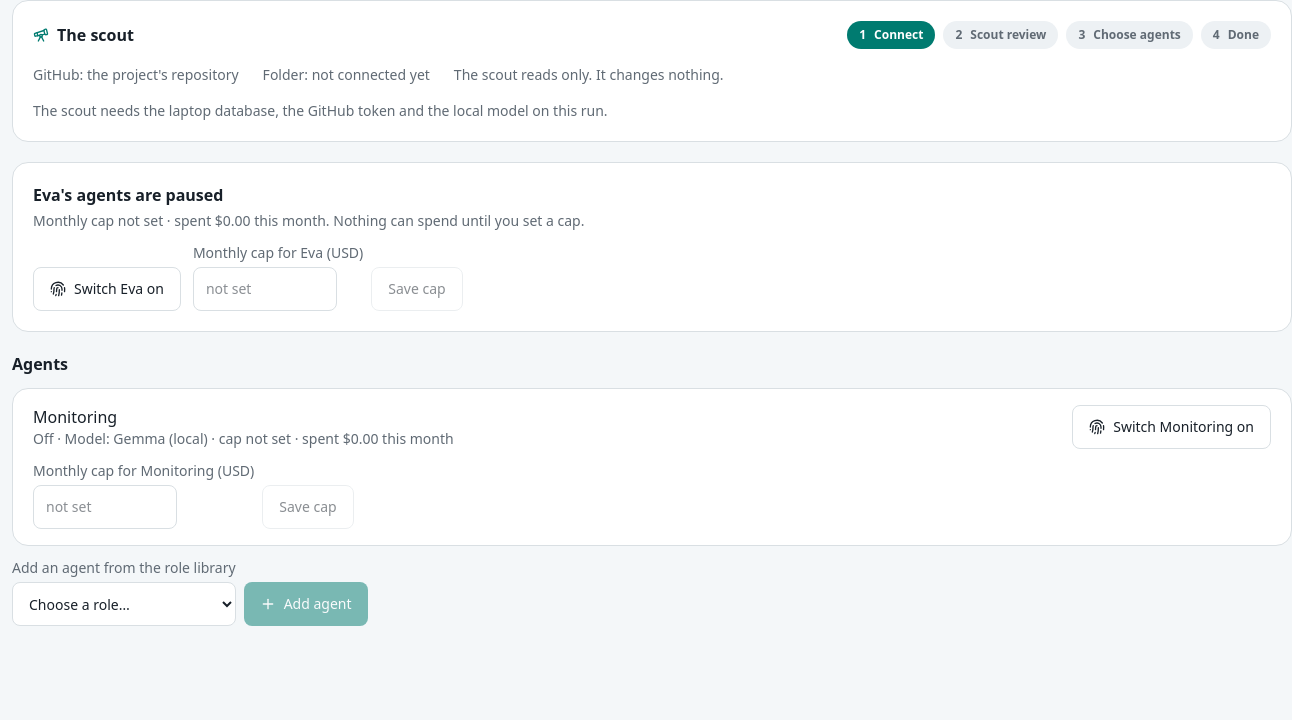
the Agents tab › switching on asks Windows Hello to sign that exact change, then sends it again with the signature
Click the button "Switch Monitoring on". click: click(1172, 427)
box: [1072,405,1271,449]
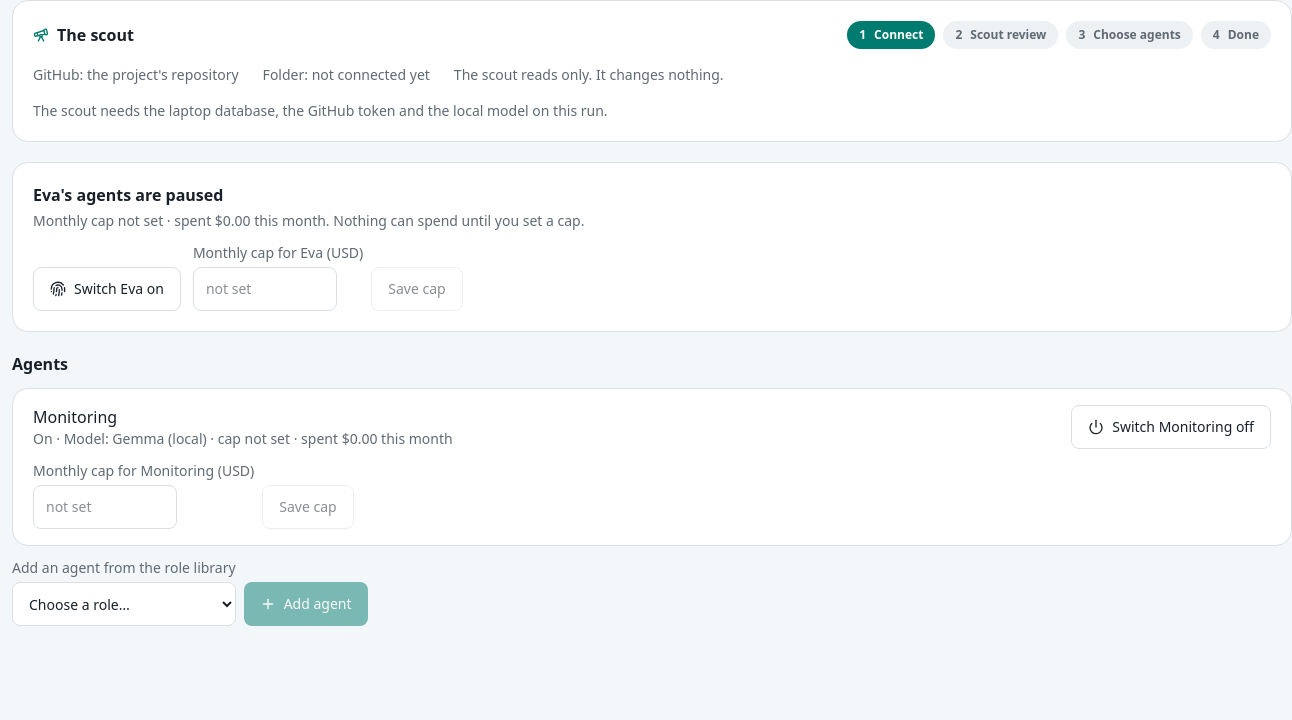
Check: the button "Switch Monitoring off" is shown, box [1071,405,1271,449]
